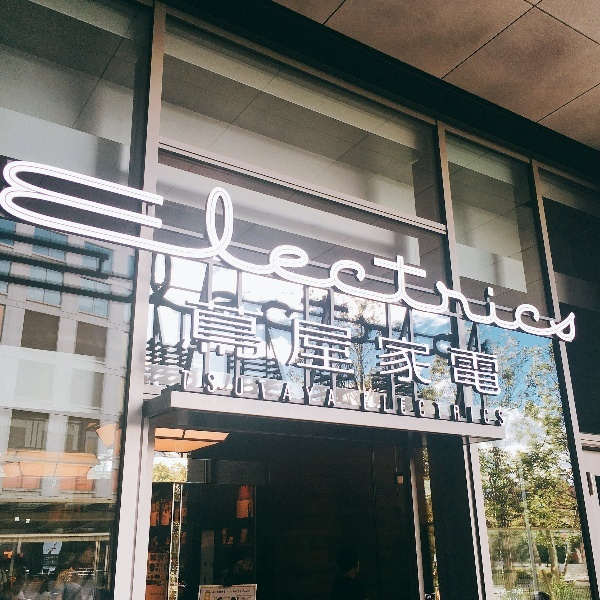text: (17, 134, 32, 353), (33, 134, 48, 353), (49, 134, 64, 353), (65, 134, 80, 353), (81, 134, 96, 353), (97, 134, 112, 353), (113, 134, 128, 353), (129, 134, 144, 353), (145, 134, 160, 353), (161, 134, 176, 353), (177, 134, 192, 353), (193, 134, 208, 353), (209, 134, 224, 353), (225, 134, 240, 353), (241, 134, 256, 353), (257, 134, 272, 353), (273, 134, 288, 353), (289, 134, 304, 353), (305, 134, 320, 353), (321, 134, 336, 353), (337, 134, 352, 353), (353, 134, 368, 353), (369, 134, 384, 353), (385, 134, 400, 353), (401, 134, 416, 353), (417, 134, 432, 353), (433, 134, 448, 353), (449, 134, 464, 353), (465, 134, 480, 353), (481, 134, 496, 353), (497, 134, 512, 353), (513, 134, 528, 353), (529, 134, 544, 353), (545, 134, 560, 353), (561, 134, 576, 353), (6, 134, 16, 353), (193, 297, 208, 400), (209, 297, 224, 400), (225, 297, 240, 400), (241, 297, 256, 400), (257, 297, 272, 400), (273, 297, 288, 400), (289, 297, 304, 400), (305, 297, 320, 400), (321, 297, 336, 400), (337, 297, 352, 400), (353, 297, 368, 400), (369, 297, 384, 400), (385, 297, 400, 400), (401, 297, 416, 400), (417, 297, 432, 400), (433, 297, 448, 400), (449, 297, 464, 400), (465, 297, 480, 400), (481, 297, 496, 400), (577, 134, 584, 353), (193, 368, 208, 410), (209, 368, 224, 410), (225, 368, 240, 410), (241, 368, 256, 410), (257, 368, 272, 410), (273, 368, 288, 410), (289, 368, 304, 410), (305, 368, 320, 410), (321, 368, 336, 410), (186, 297, 192, 400), (497, 297, 503, 400), (180, 368, 192, 410), (369, 393, 384, 426), (385, 393, 400, 426), (401, 393, 416, 426), (417, 393, 432, 426), (433, 393, 448, 426), (449, 393, 464, 426), (465, 393, 480, 426), (481, 393, 496, 426), (497, 393, 504, 426), (362, 393, 368, 426), (227, 590, 240, 594), (337, 368, 338, 410), (213, 591, 224, 594), (205, 590, 208, 600), (209, 590, 212, 600), (241, 590, 249, 593), (249, 590, 256, 591), (225, 591, 226, 594)
